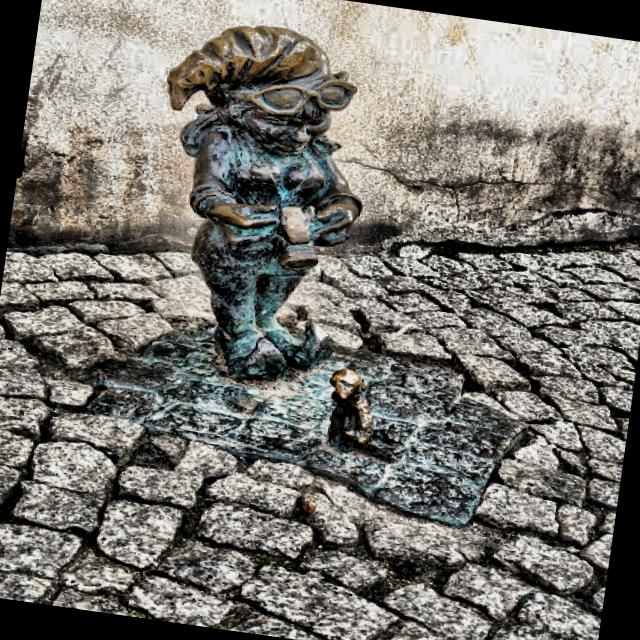Troszka i Adoratorek: (73, 27, 534, 530)
